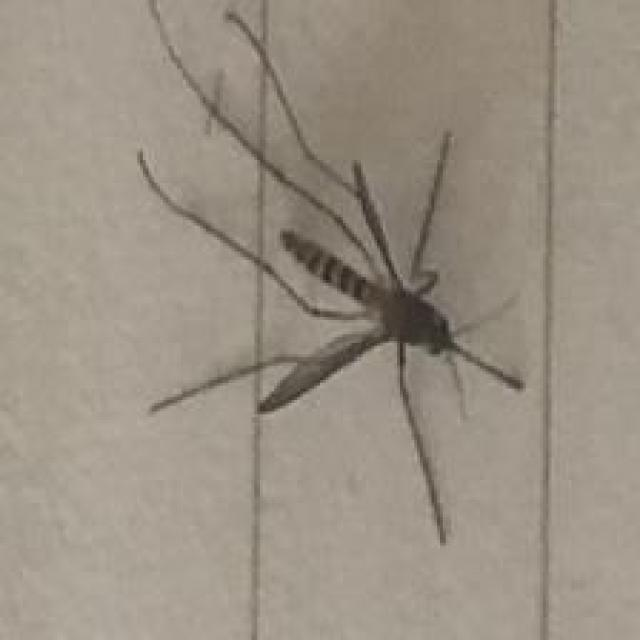Culex: (134, 0, 529, 546)
